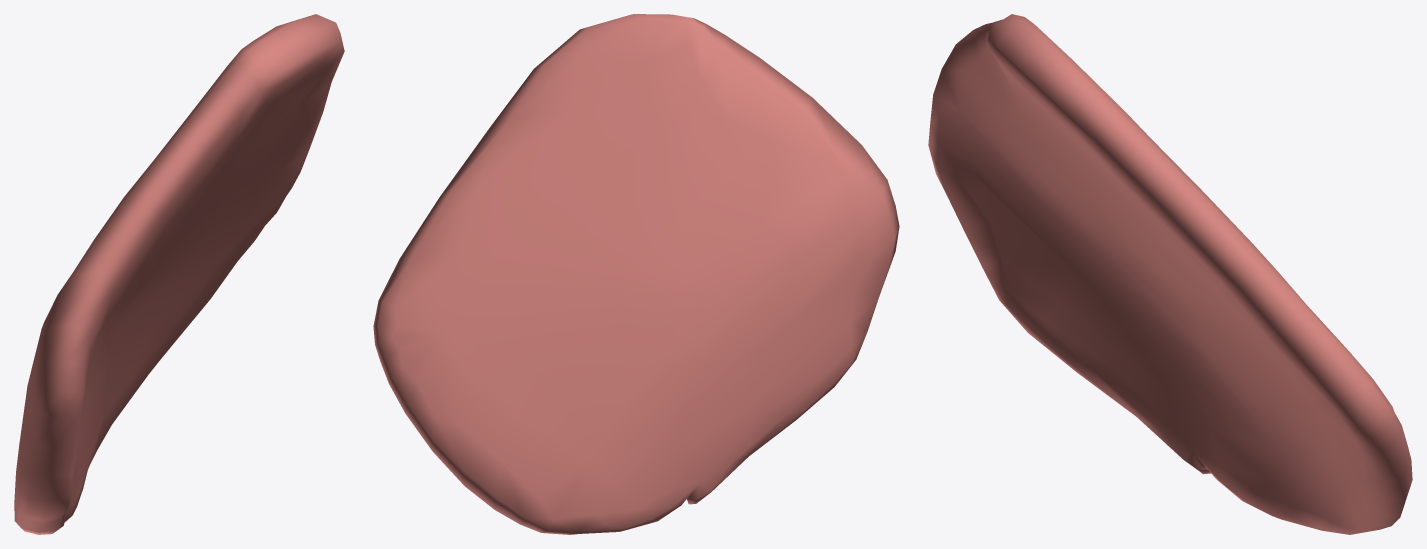
3 views of the same model, side by side, from view 1: azimuth 30°, elevation 25°; view 2: azimuth 150°, elevation 25°; view 3: azimuth 270°, elevation 25° (orthographic). The views are drawn at different scales.
Parts seen in each view (by area): view 1: ZA_302af375d462cc01; view 2: ZA_302af375d462cc01; view 3: ZA_302af375d462cc01.
Boxes of the visible parts, box(x1,y1,x2,y2) form: ZA_302af375d462cc01: box(14, 14, 344, 534); ZA_302af375d462cc01: box(373, 14, 899, 534); ZA_302af375d462cc01: box(928, 14, 1412, 534).
Bounding box in the file's own units: 0.00482 × 0.00552 × 0.00462.
